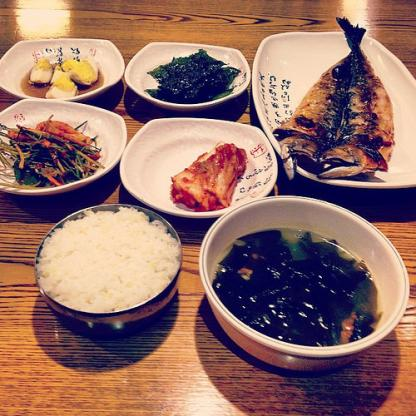Peixe: (275, 15, 396, 191)
